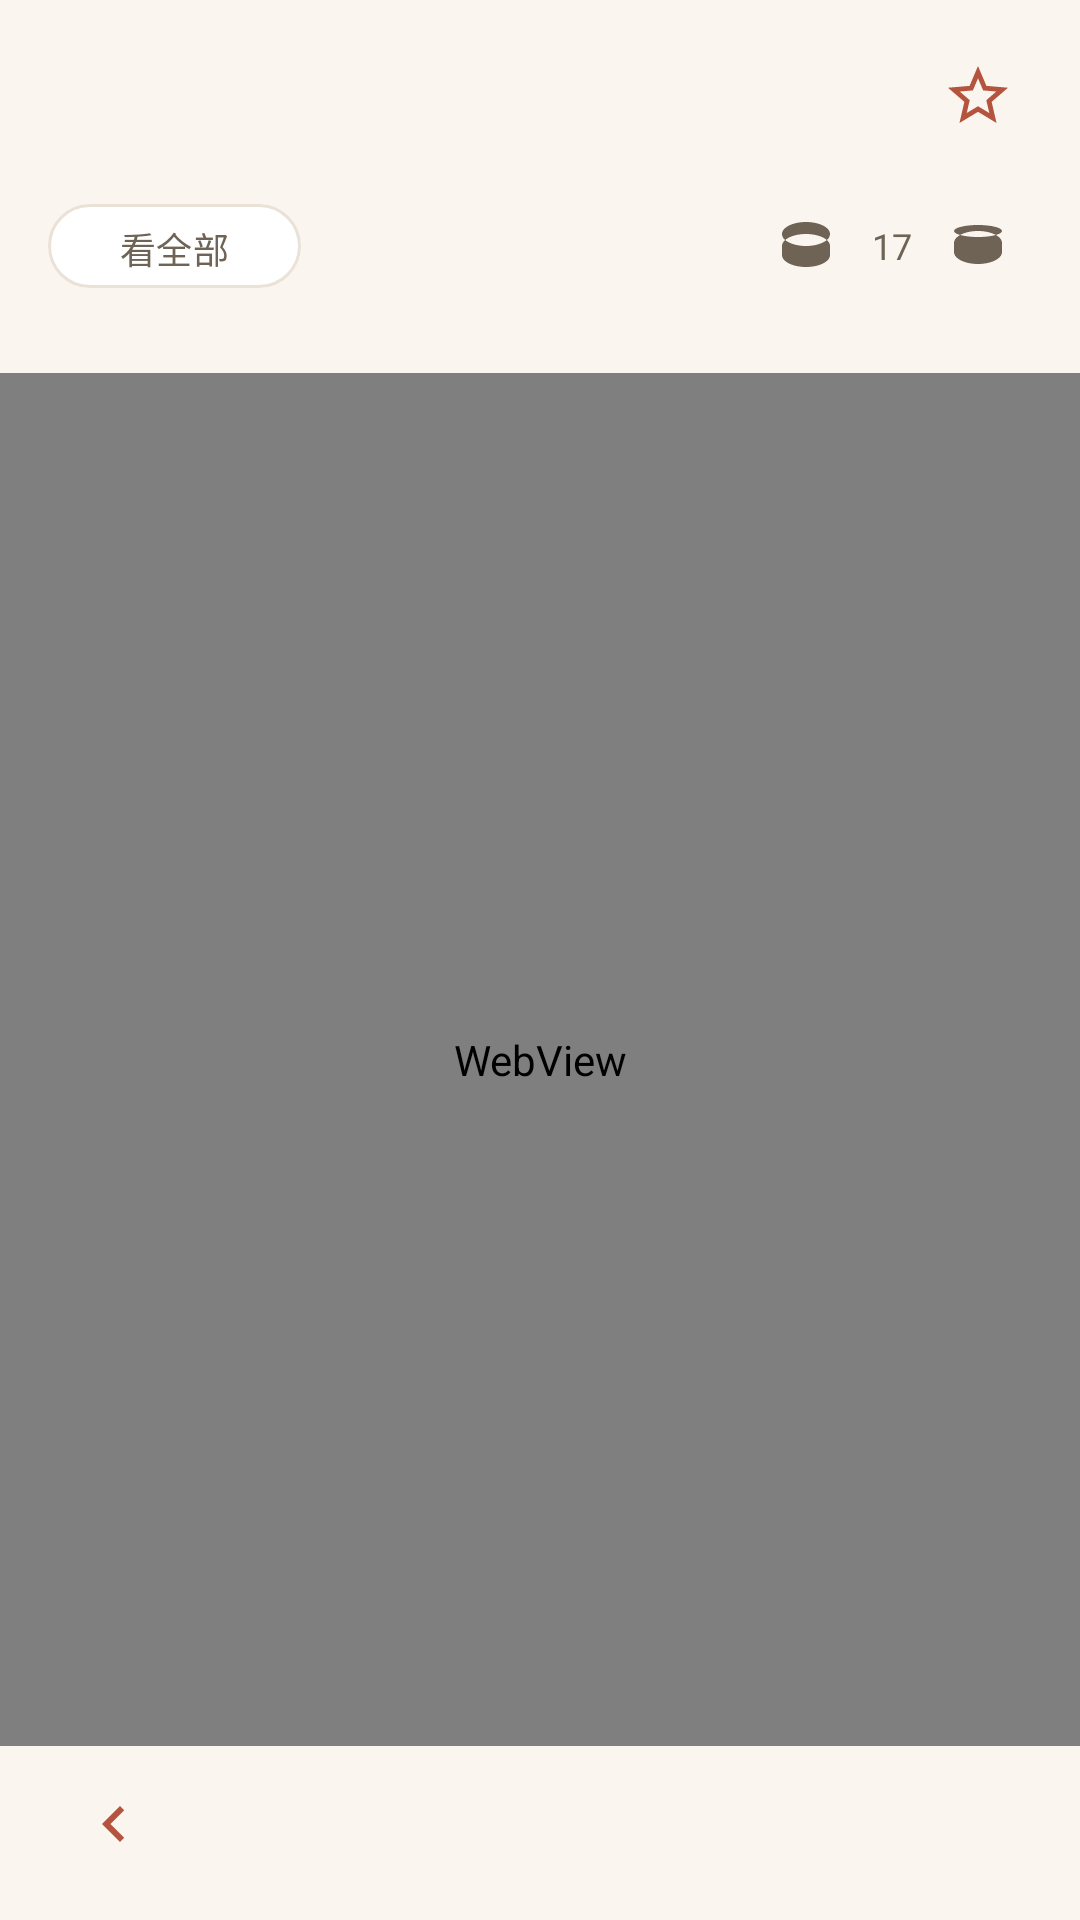

Icons on this 1080*1920 Android screen, each with its box as {"left": x1, "top": y1, "right": x2, "bottom": y2}:
上一页楼层: {"left": 102, "top": 1806, "right": 124, "bottom": 1842}
收藏: {"left": 948, "top": 66, "right": 1008, "bottom": 123}
